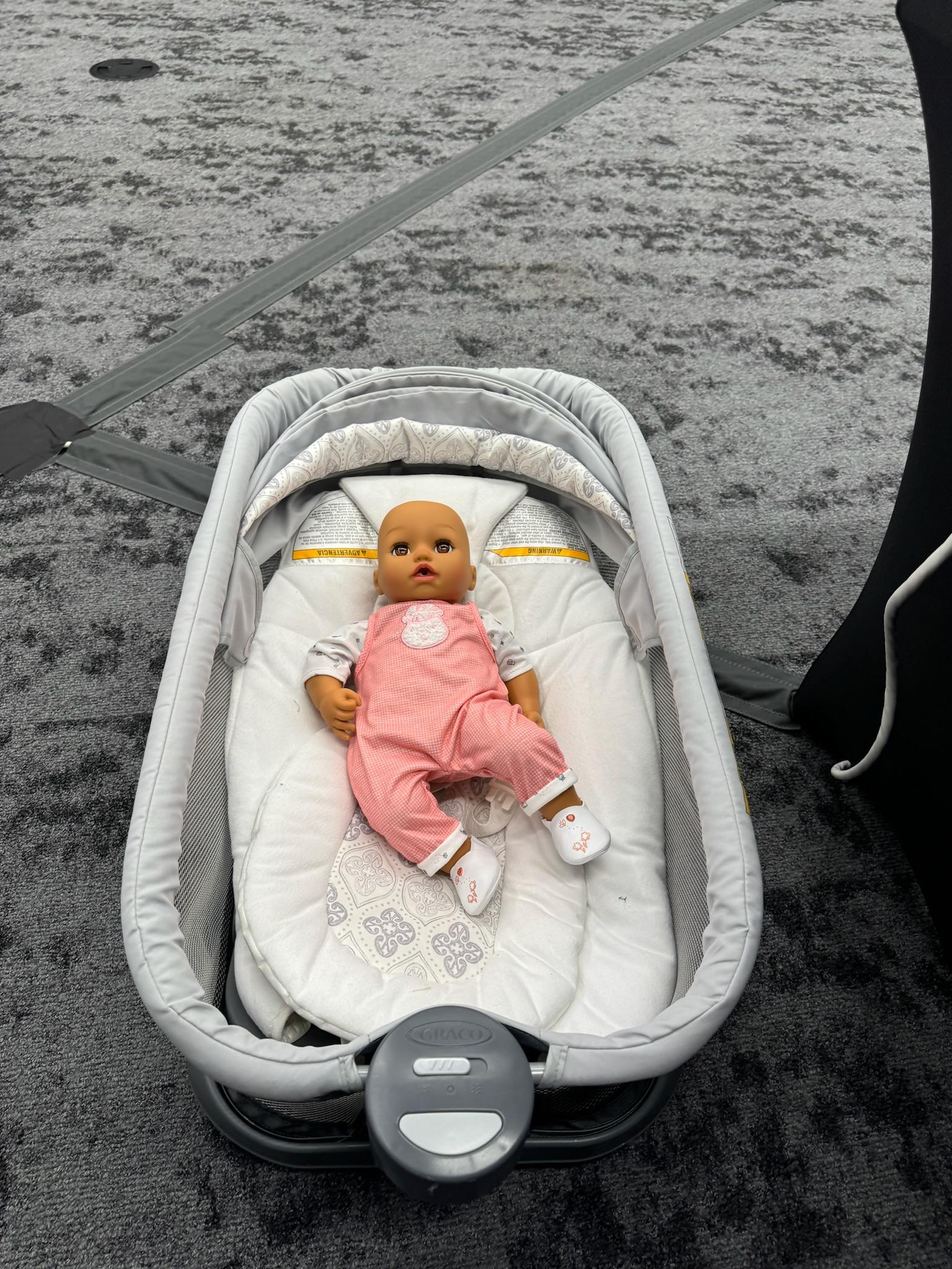baby: (305, 495, 620, 917)
